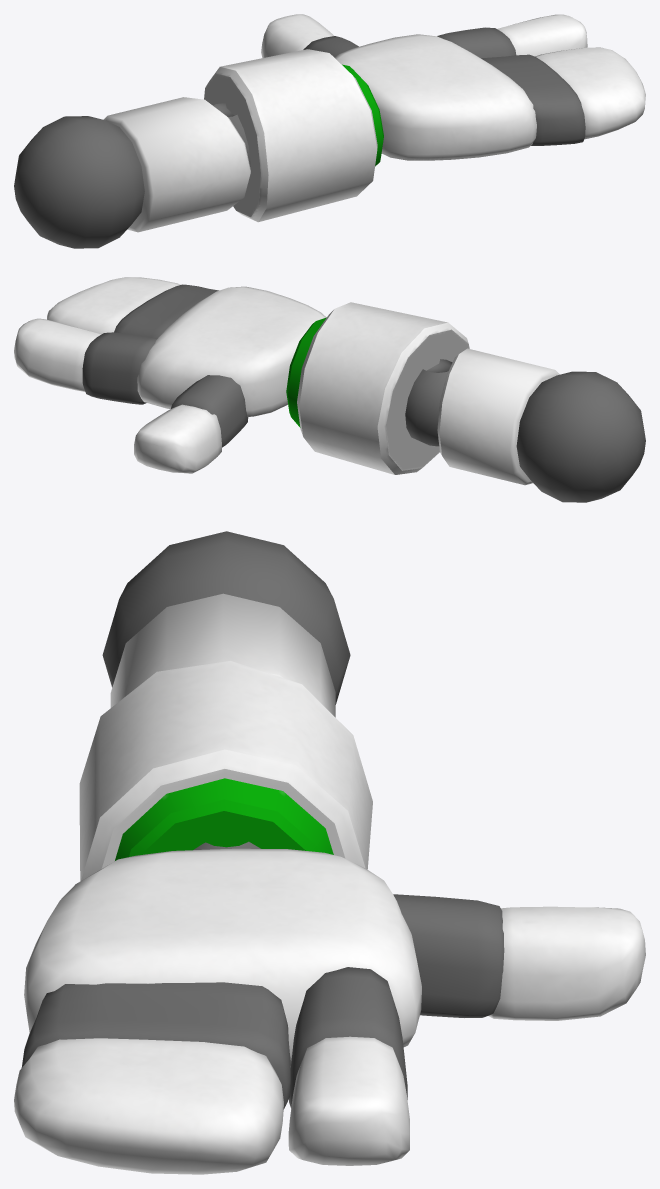
The model's file is gizmobot-arm.glb.
The picture shows the model from 3 angles, top to bottom: view 1: azimuth 30°, elevation 25°; view 2: azimuth 150°, elevation 25°; view 3: azimuth 270°, elevation 25°; orthographic projection. The views are drawn at different scales.
Parts seen in each view (by area): view 1: LeftUpperArmSurface, LeftForearmSurface, LeftHandSurface, MittSurface, PointerSurface, ThumbSurface; view 2: LeftUpperArmSurface, LeftForearmSurface, LeftHandSurface, PointerSurface, ThumbSurface, MittSurface; view 3: LeftHandSurface, LeftForearmSurface, MittSurface, LeftUpperArmSurface, ThumbSurface, PointerSurface.
Part boxes in pixels (bbox=[...]): LeftUpperArmSurface: bbox=[14, 97, 250, 248]; LeftForearmSurface: bbox=[204, 49, 383, 222]; LeftHandSurface: bbox=[335, 34, 536, 160]; MittSurface: bbox=[481, 47, 645, 145]; PointerSurface: bbox=[437, 14, 587, 58]; ThumbSurface: bbox=[261, 14, 358, 57]; LeftUpperArmSurface: bbox=[437, 348, 645, 502]; LeftForearmSurface: bbox=[286, 302, 469, 474]; LeftHandSurface: bbox=[137, 286, 326, 416]; PointerSurface: bbox=[14, 318, 156, 404]; ThumbSurface: bbox=[134, 375, 248, 473]; MittSurface: bbox=[47, 277, 218, 339]; LeftHandSurface: bbox=[24, 848, 421, 1066]; LeftForearmSurface: bbox=[79, 661, 372, 881]; MittSurface: bbox=[14, 982, 290, 1174]; LeftUpperArmSurface: bbox=[102, 531, 350, 717]; ThumbSurface: bbox=[393, 894, 645, 1020]; PointerSurface: bbox=[288, 967, 409, 1165].
Bounding box in the file's own units: 1.56 × 0.3671 × 0.7867.
Materials: 1 (1 with a texture image).
